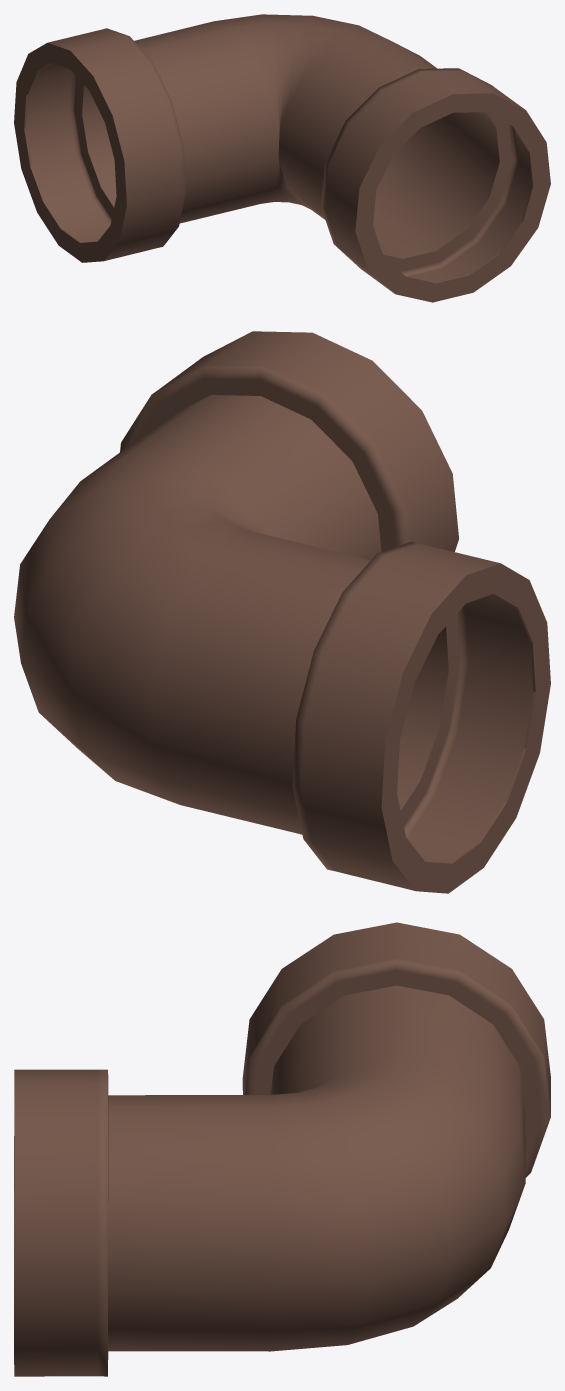
Rendered from fbx_curve_pipe.fbx.
3 views of the same model, one above another, from view 1: azimuth 30°, elevation 25°; view 2: azimuth 150°, elevation 25°; view 3: azimuth 270°, elevation 25° (orthographic). The views are drawn at different scales.
Visible parts, largest first — view 1: curve.pipe; view 2: curve.pipe; view 3: curve.pipe.
Boxes of the visible parts, box(x1,y1,x2,y2) form: curve.pipe: box(14, 14, 550, 302); curve.pipe: box(14, 331, 550, 893); curve.pipe: box(14, 922, 550, 1376).
Bounding box in the file's own units: 423 × 423 × 242.
